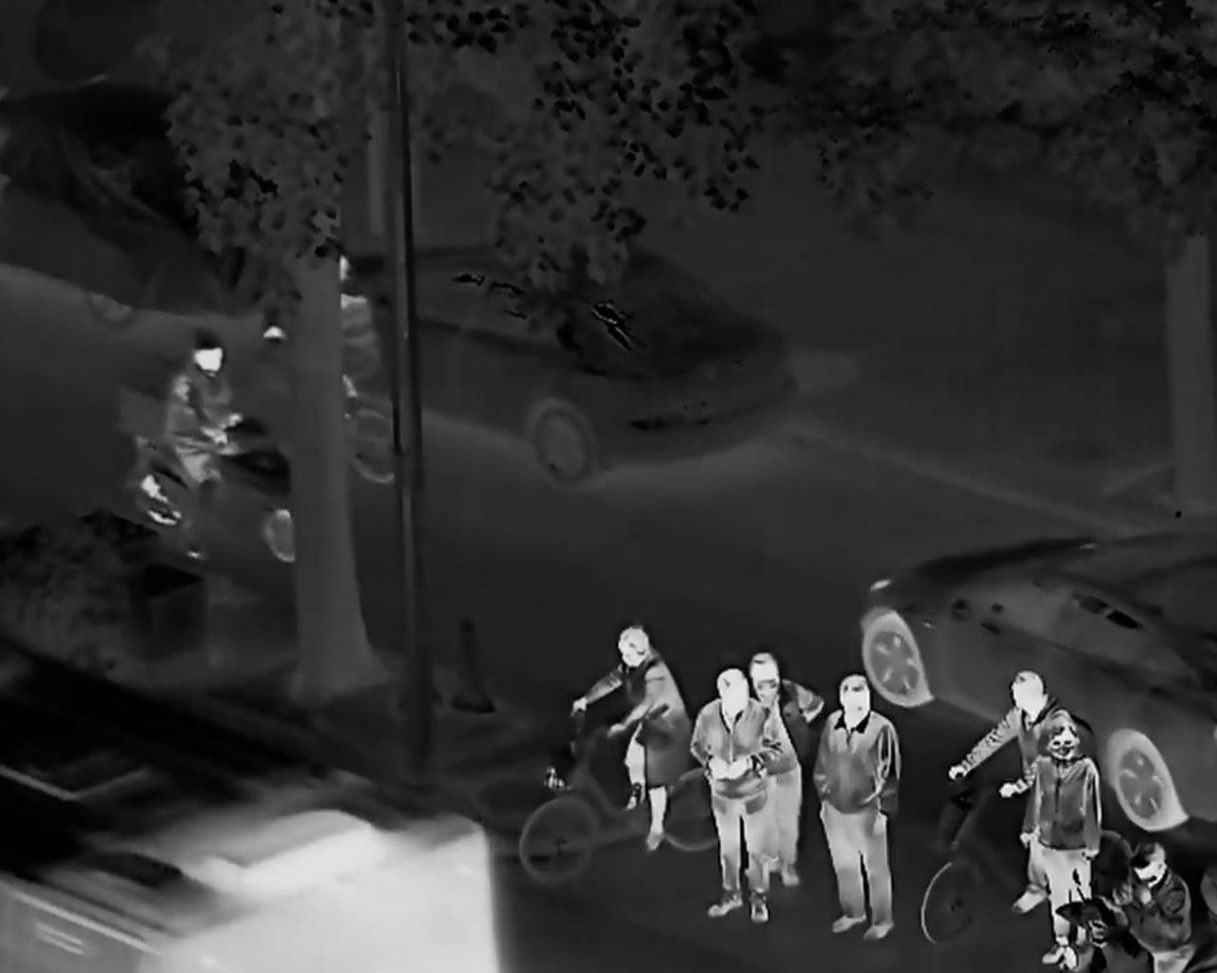person: (948, 669, 1092, 913), (567, 619, 686, 853), (814, 675, 899, 942), (692, 674, 776, 924), (739, 650, 825, 887), (161, 331, 250, 560), (1026, 721, 1104, 966), (1098, 841, 1191, 970)
